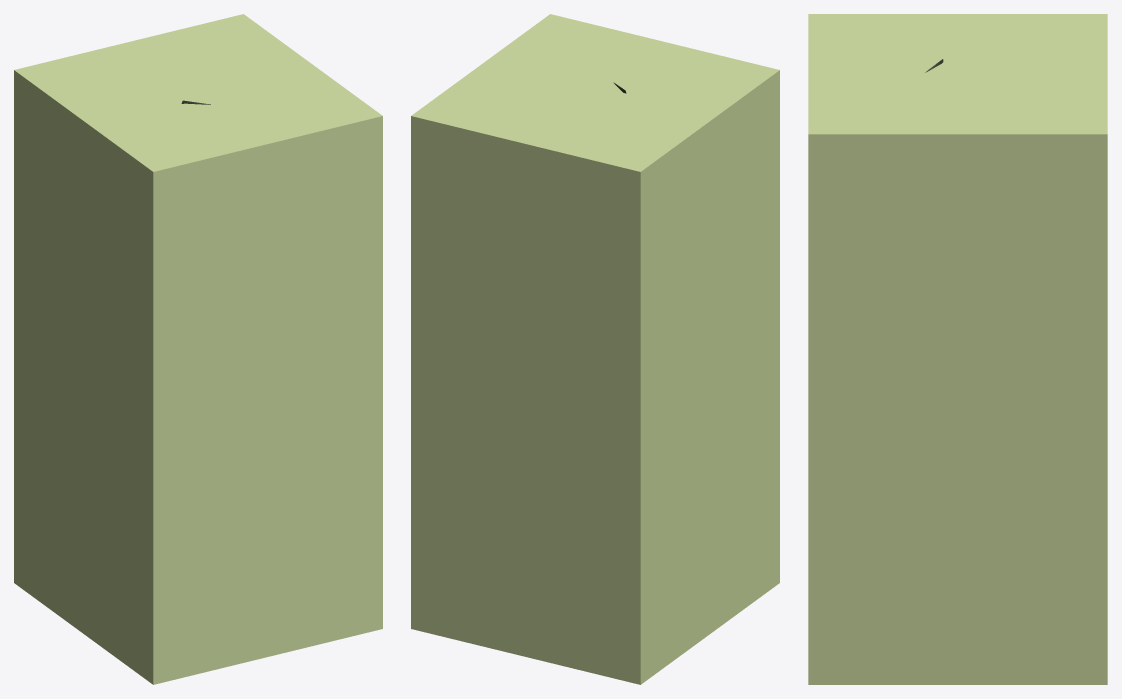
File: thintree_one.DAE
The picture shows the model from 3 angles, left to right: view 1: azimuth 30°, elevation 25°; view 2: azimuth 150°, elevation 25°; view 3: azimuth 270°, elevation 25°; orthographic projection. The views are drawn at different scales.
Parts seen in each view (by area): view 1: bounds; view 2: bounds; view 3: bounds.
Part boxes in pixels (<box>): bounds: <box>14,14,382,684</box>; bounds: <box>411,14,779,684</box>; bounds: <box>808,14,1107,684</box>.
Bounding box in the file's own units: 2.51 × 2.63 × 5.42.
